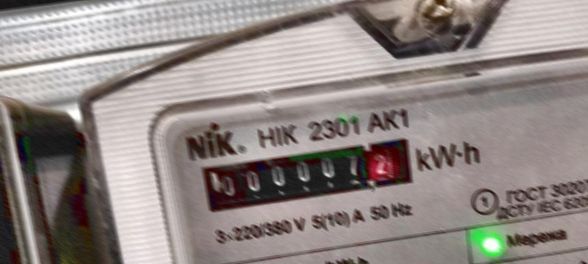0: (218, 171, 235, 197), (294, 158, 311, 183), (269, 162, 285, 187), (318, 154, 334, 178), (244, 168, 259, 191)
2: (371, 151, 387, 175)
7: (344, 151, 359, 176)
screen: (189, 126, 423, 221)
